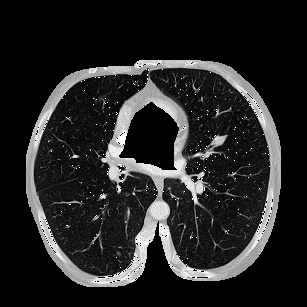PN: (214, 135, 224, 145)
